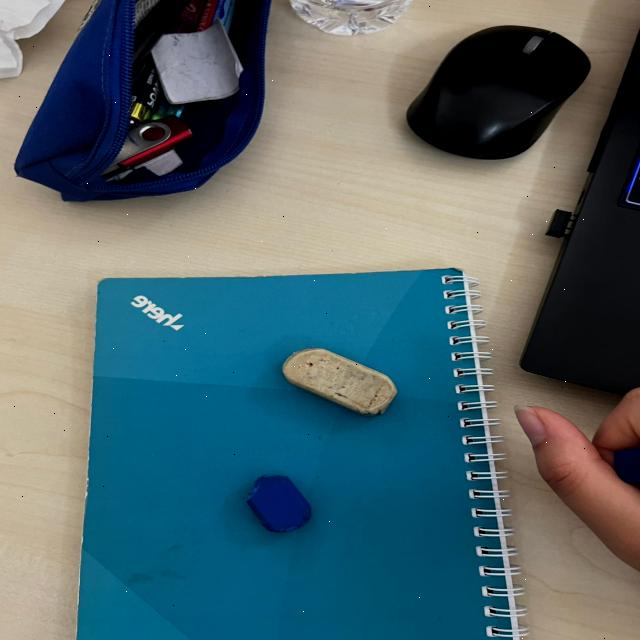eraser: (272, 344, 409, 417), (234, 471, 320, 536)
